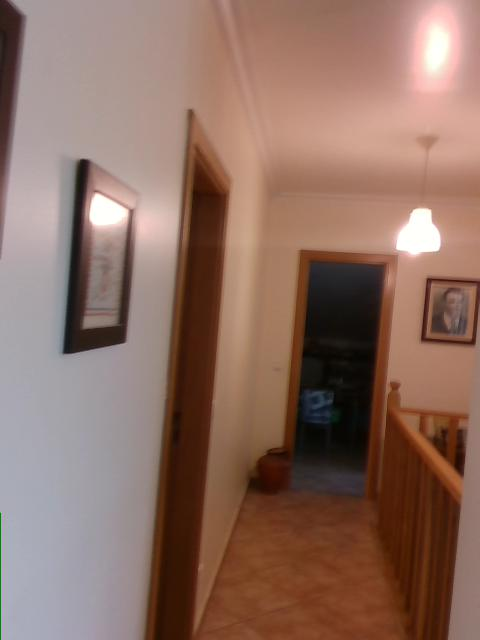open_door: (280, 247, 397, 504)
